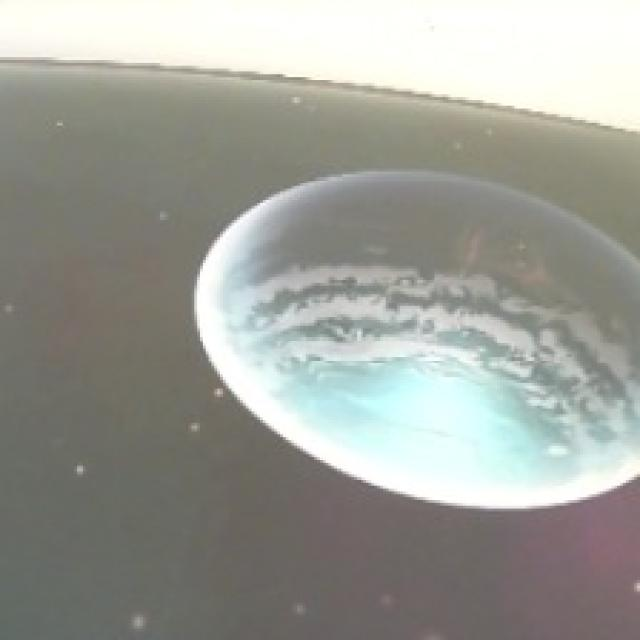Earth: (189, 167, 640, 513)
